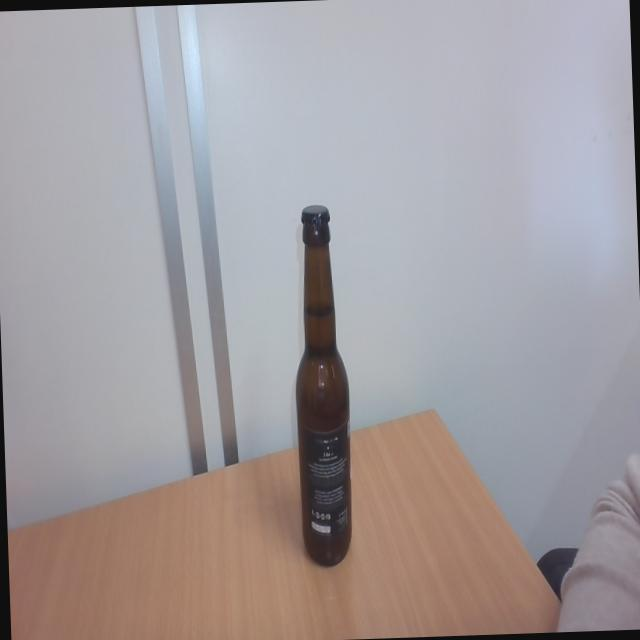Bottle: (290, 234, 356, 566)
Cap: (300, 198, 331, 232)
Label: (295, 424, 355, 538)
